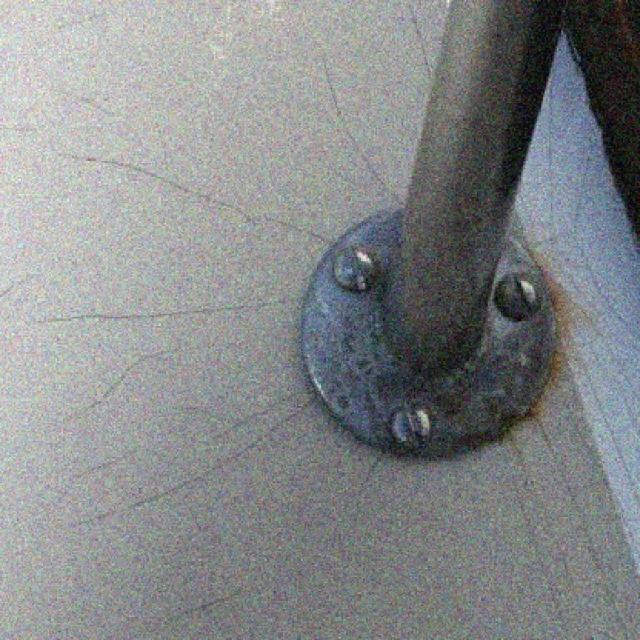crack: (66, 386, 325, 528), (52, 146, 341, 257), (318, 62, 411, 218), (67, 337, 192, 432), (29, 297, 294, 340), (67, 450, 163, 481)
